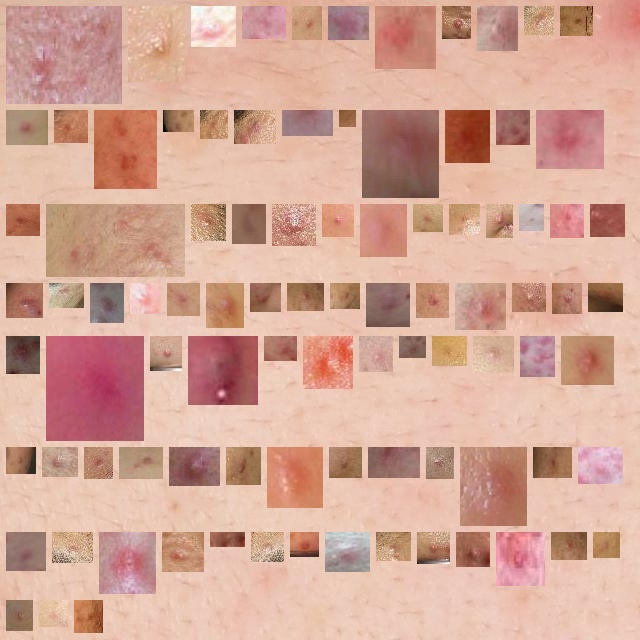papule: (14, 14, 114, 96), (54, 344, 140, 433), (54, 212, 177, 269), (370, 118, 431, 190), (468, 455, 519, 518), (102, 118, 149, 181), (196, 344, 250, 397), (136, 14, 177, 74), (544, 118, 596, 161), (383, 14, 428, 61), (107, 540, 148, 586), (275, 455, 315, 500), (311, 344, 345, 381), (504, 540, 537, 578), (569, 344, 606, 377), (368, 212, 399, 249), (463, 291, 498, 322), (453, 118, 482, 155), (177, 455, 212, 478), (376, 448, 412, 470), (374, 291, 402, 319), (280, 212, 308, 238), (199, 14, 228, 39), (485, 14, 510, 43), (333, 540, 362, 564), (214, 291, 236, 320), (290, 110, 325, 128), (170, 540, 196, 564), (586, 455, 615, 476), (14, 540, 38, 563), (481, 344, 506, 365), (14, 118, 40, 137), (250, 14, 278, 31), (528, 344, 547, 369), (242, 118, 268, 136), (336, 14, 361, 32), (127, 455, 155, 471), (240, 212, 258, 236), (98, 291, 116, 315), (234, 455, 253, 477), (199, 212, 218, 233), (14, 291, 35, 310), (14, 344, 32, 366), (60, 540, 85, 555), (367, 344, 385, 364), (541, 455, 564, 470), (504, 118, 522, 137), (464, 540, 482, 559), (558, 212, 576, 230), (598, 212, 617, 229), (424, 291, 441, 310), (62, 118, 80, 135), (158, 344, 174, 363), (175, 291, 192, 308), (14, 212, 32, 228), (57, 285, 76, 300), (50, 455, 70, 469), (330, 212, 346, 229), (425, 540, 442, 556), (440, 344, 459, 358), (337, 455, 354, 470), (300, 14, 314, 32), (295, 291, 316, 303), (596, 291, 615, 304), (384, 540, 403, 553), (559, 540, 579, 552), (568, 14, 585, 28), (259, 540, 276, 554), (520, 291, 538, 304), (457, 212, 472, 227), (138, 291, 153, 306), (450, 14, 463, 31), (82, 608, 95, 625), (560, 291, 574, 306), (92, 455, 105, 471), (494, 212, 505, 230), (171, 118, 186, 131), (258, 291, 273, 304), (434, 455, 446, 471), (532, 14, 546, 27), (421, 212, 435, 224), (14, 608, 25, 623), (208, 118, 220, 131), (14, 455, 28, 466), (272, 344, 289, 353), (47, 608, 60, 619), (338, 291, 352, 301), (298, 540, 311, 549), (218, 540, 237, 546), (601, 540, 612, 550), (527, 212, 536, 223), (407, 344, 418, 350)
